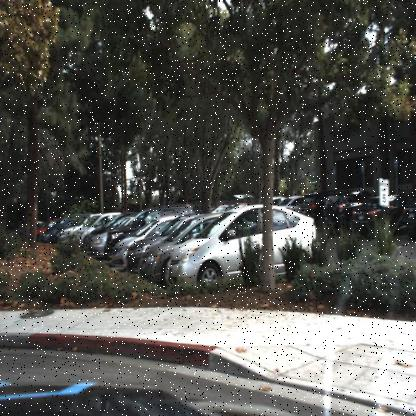car: (164, 203, 323, 294), (166, 201, 318, 290), (136, 212, 232, 295), (141, 212, 202, 280), (110, 217, 178, 266), (104, 207, 150, 259), (109, 220, 159, 265), (126, 224, 174, 270), (41, 216, 74, 243), (88, 229, 110, 259), (70, 223, 88, 252), (56, 221, 74, 249), (40, 219, 58, 244)
